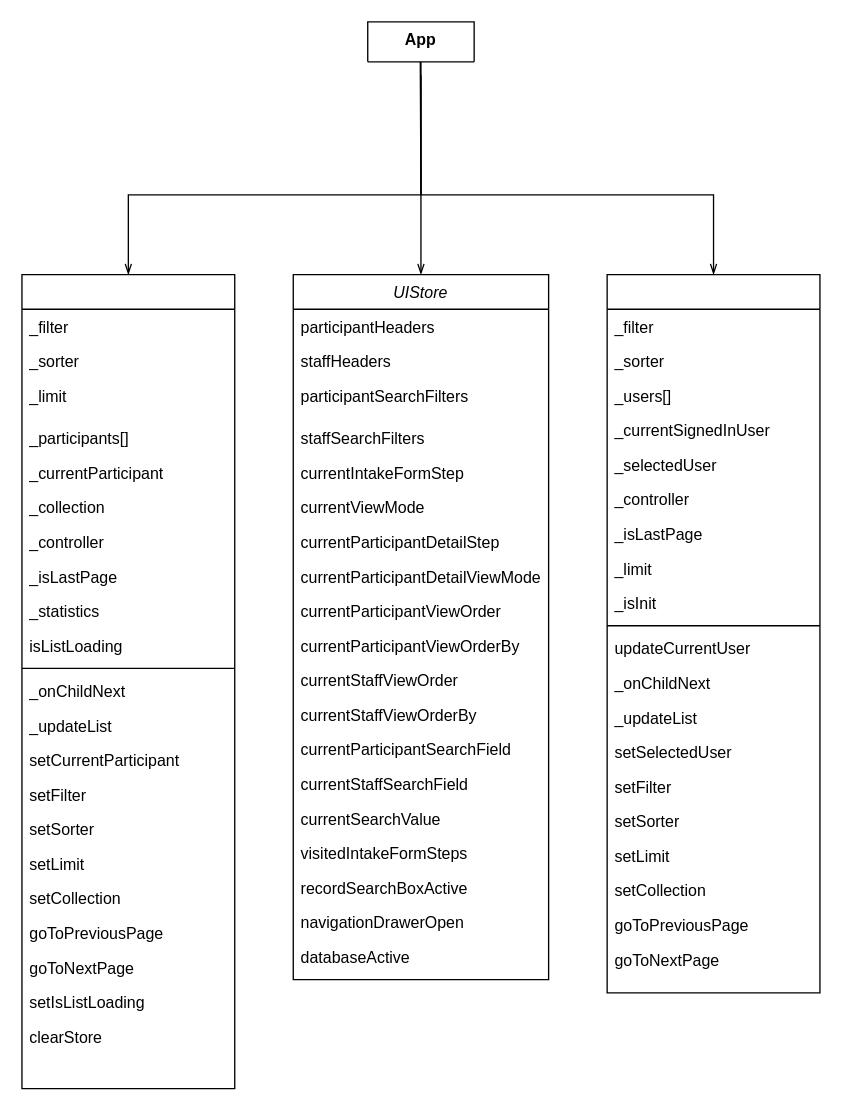
The diagram is 842 pixels wide and 1111 high, and some of its shapes have lost their labels. The box of each missing label's shape, as (x1, y1, x2, y2) in pixels:
ParticipantStore: (21, 273, 235, 1089)
UserStore: (606, 273, 820, 993)
